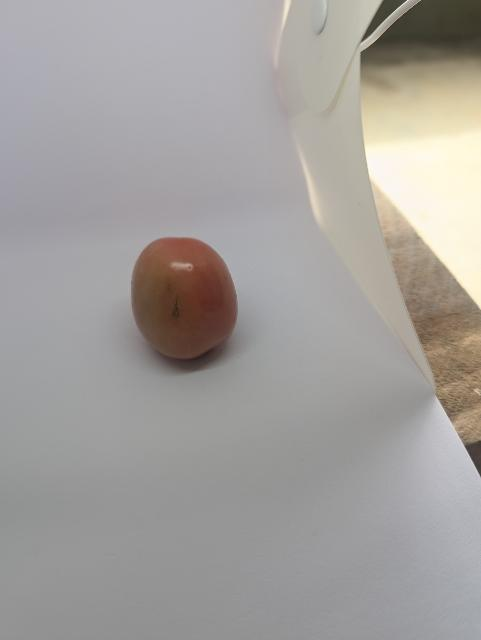turning: (125, 231, 245, 363)
